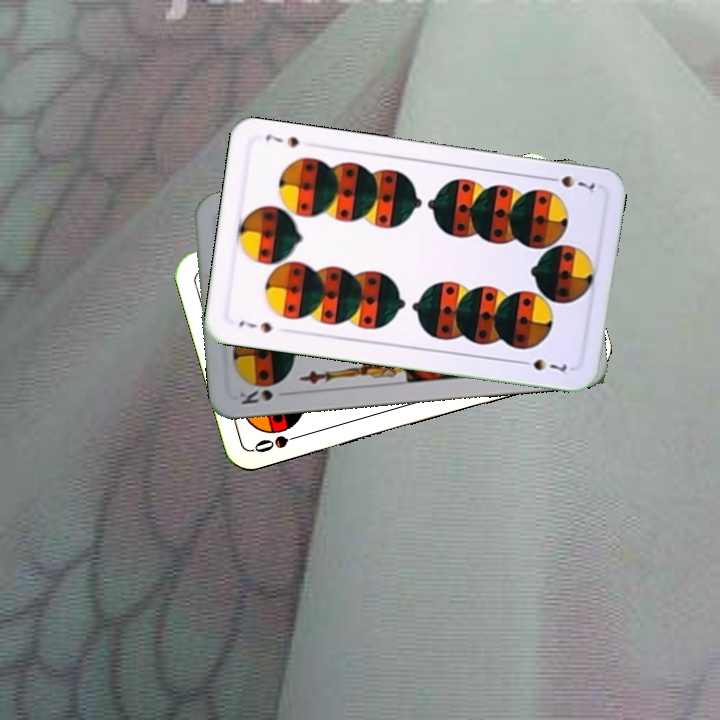S7: (542, 171, 601, 196), (235, 316, 275, 336)
SK: (235, 380, 283, 407)
SO: (250, 429, 308, 455)
